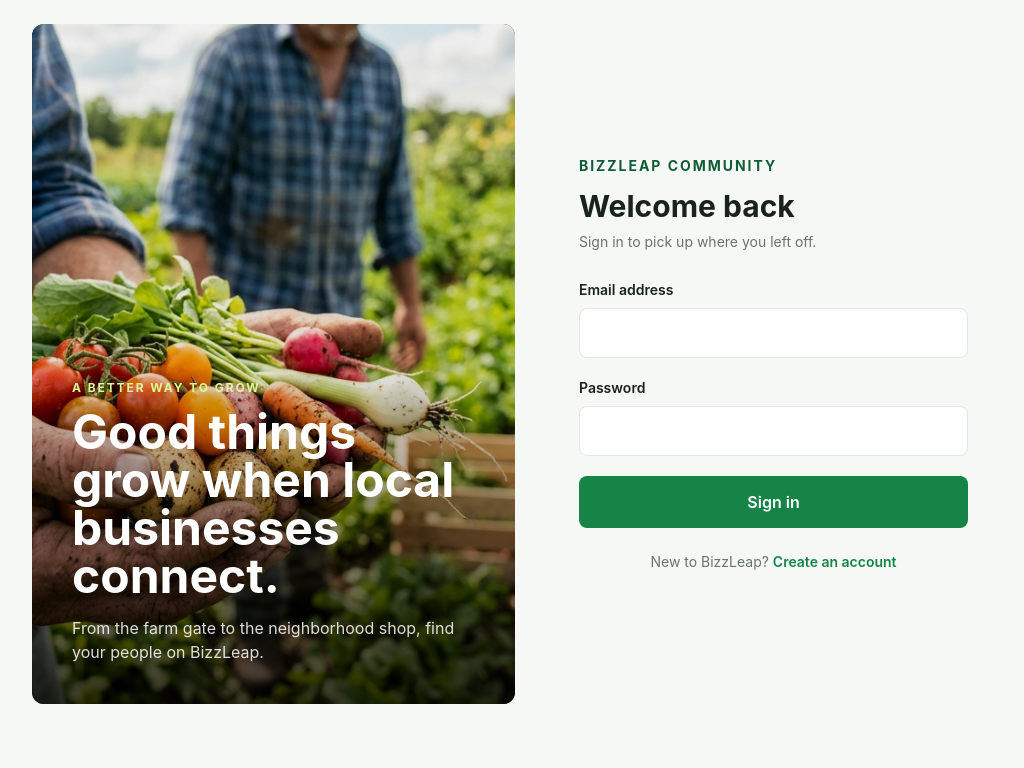
it: Auth page › renders a sign-in request error
Type "amina@example.com" into the field labelled "Email address" at (774, 333), box [579,308,968,358]
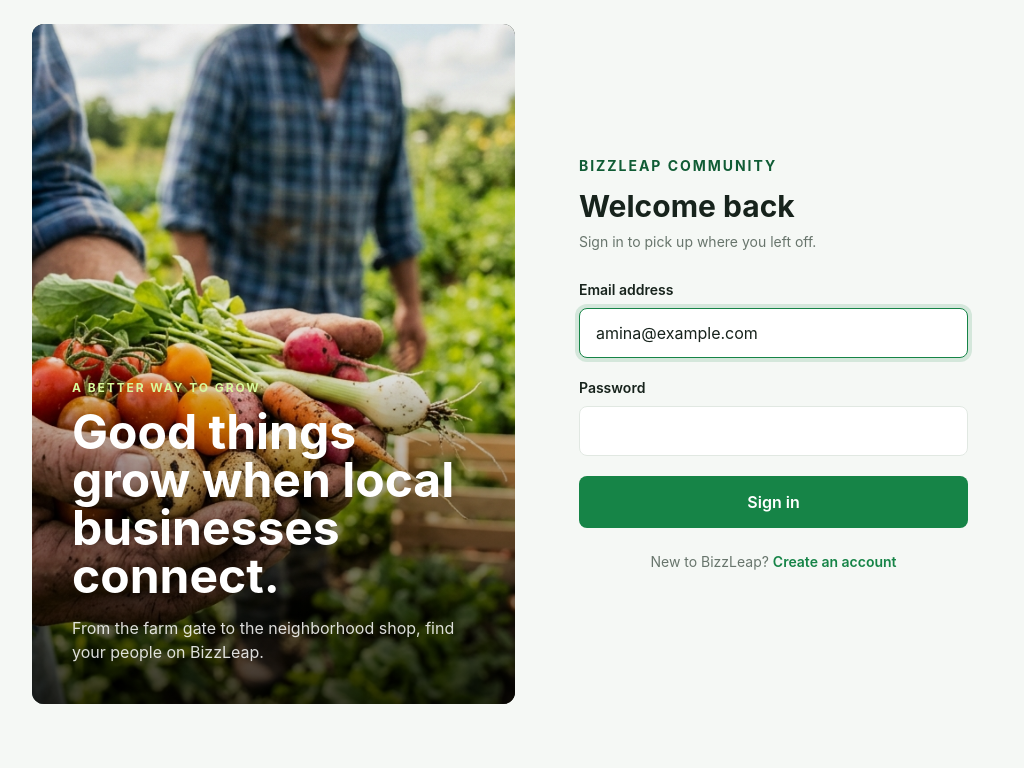
Type "WrongPassword42" into the password field labelled "Password" at (774, 431), box [579,406,968,456]
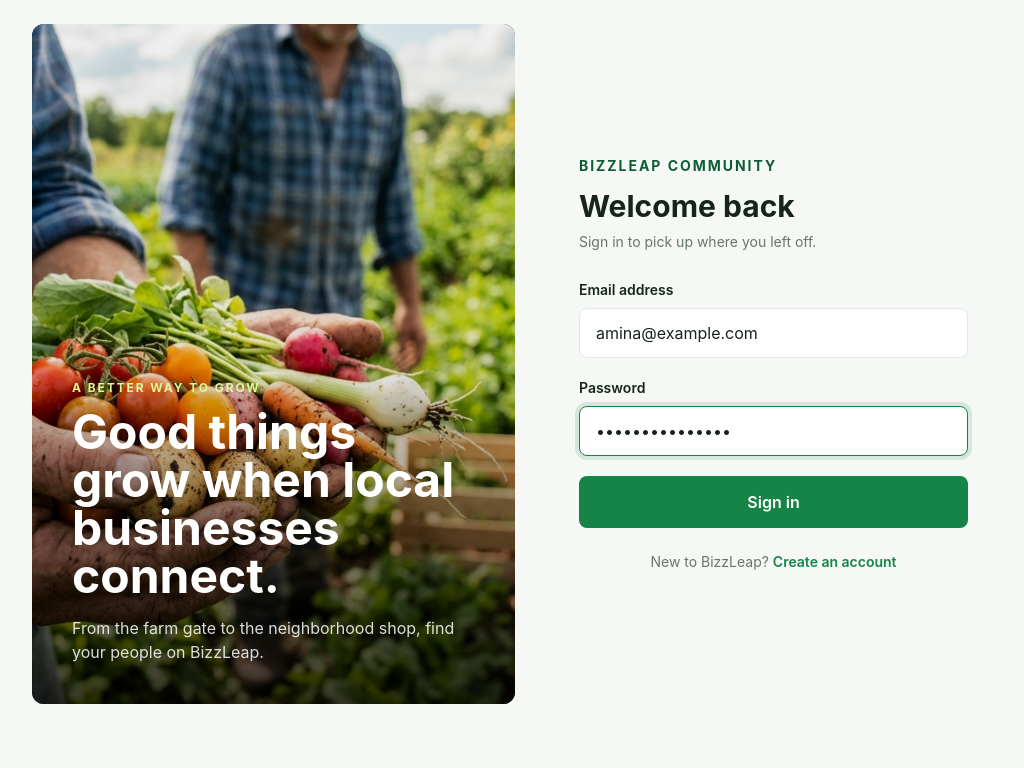
Click the button "Sign in" at (774, 502), box [579,476,968,528]
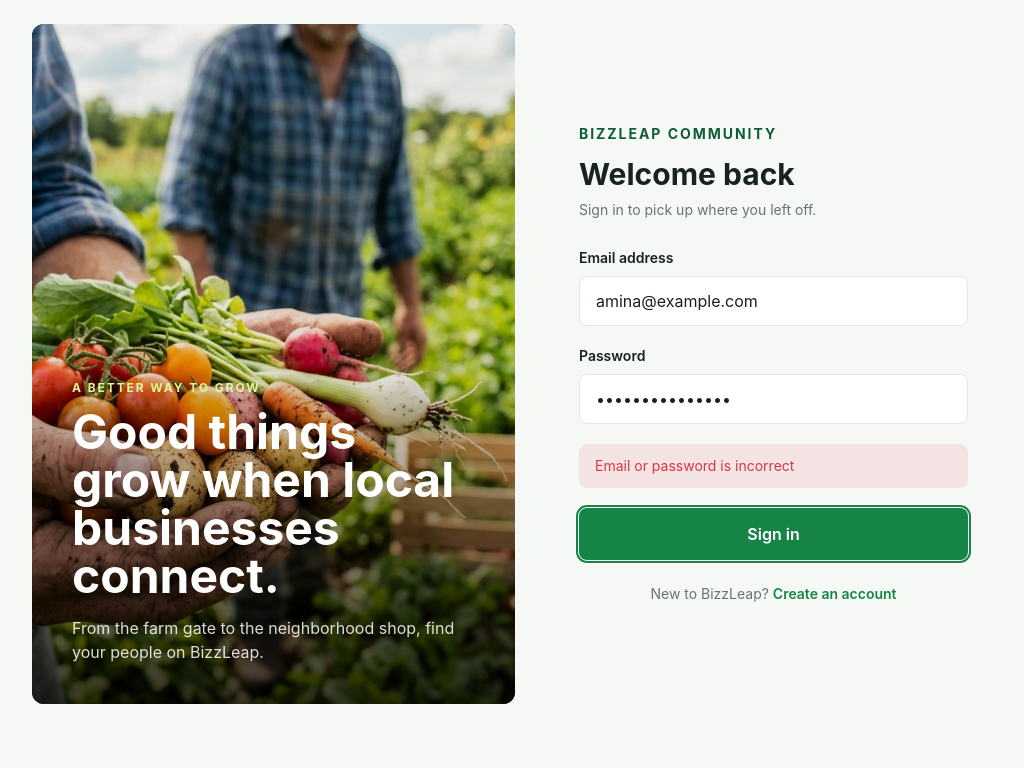
Expected: the message reads "Email or password is incorrect", [595,457,794,474]
